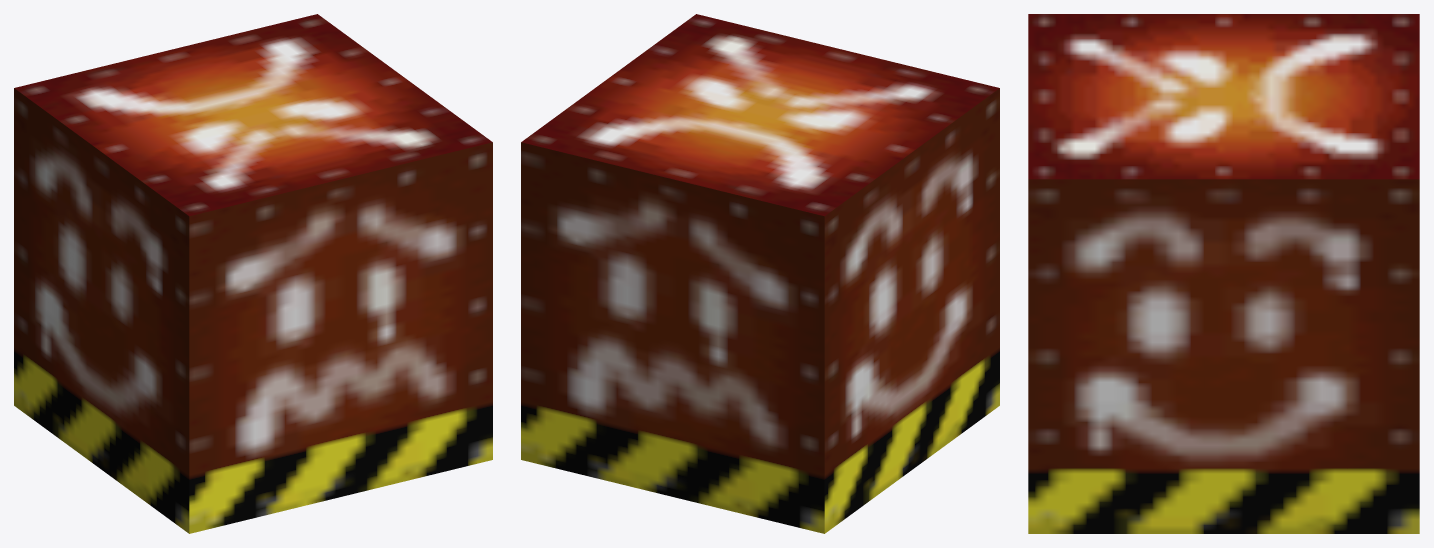
The model's file is onimasu.glb.
3 views of the same model, side by side, from view 1: azimuth 30°, elevation 25°; view 2: azimuth 150°, elevation 25°; view 3: azimuth 270°, elevation 25° (orthographic). The views are drawn at different scales.
Visible parts, largest first — view 1: onimasu; view 2: onimasu; view 3: onimasu.
Boxes of the visible parts, x1,y1,x2,y2 form: onimasu: (14,14,492,533); onimasu: (521,14,999,533); onimasu: (1028,14,1419,533).
Size of the model in its own units: 15.62 by 15.63 by 15.62.
1 material, 1 textured.
